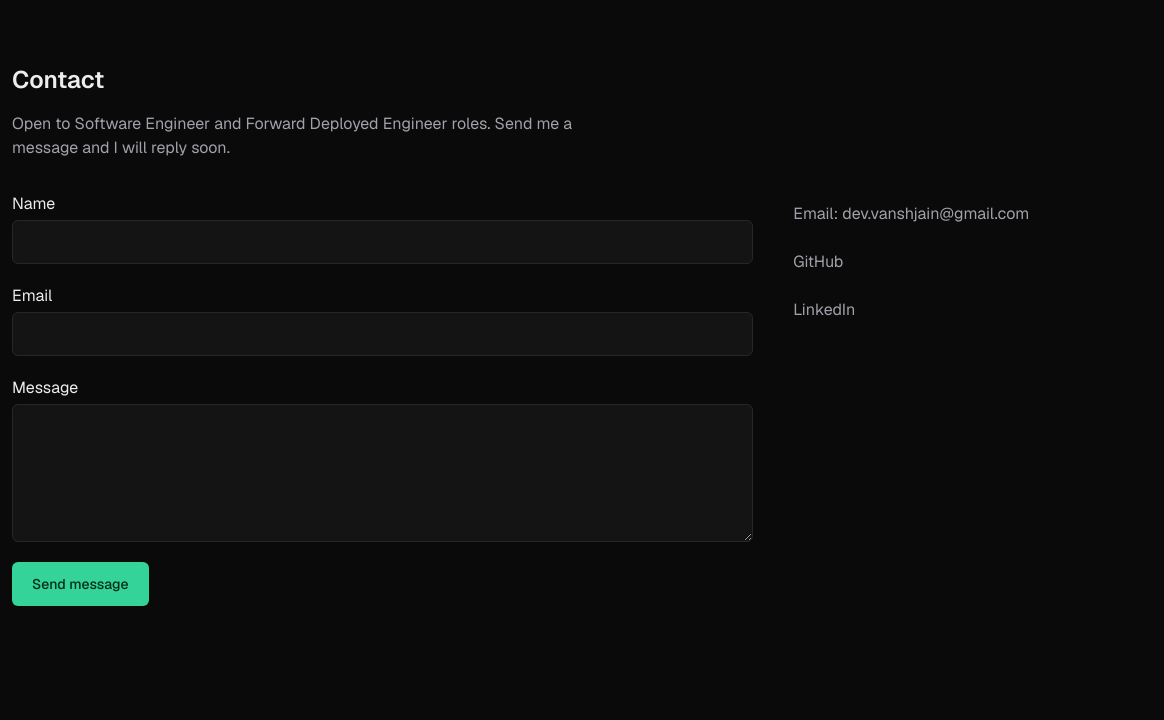
invalid email is blocked
Type "Ada" into the field labelled "Name" at (383, 242), box [12,220,753,264]
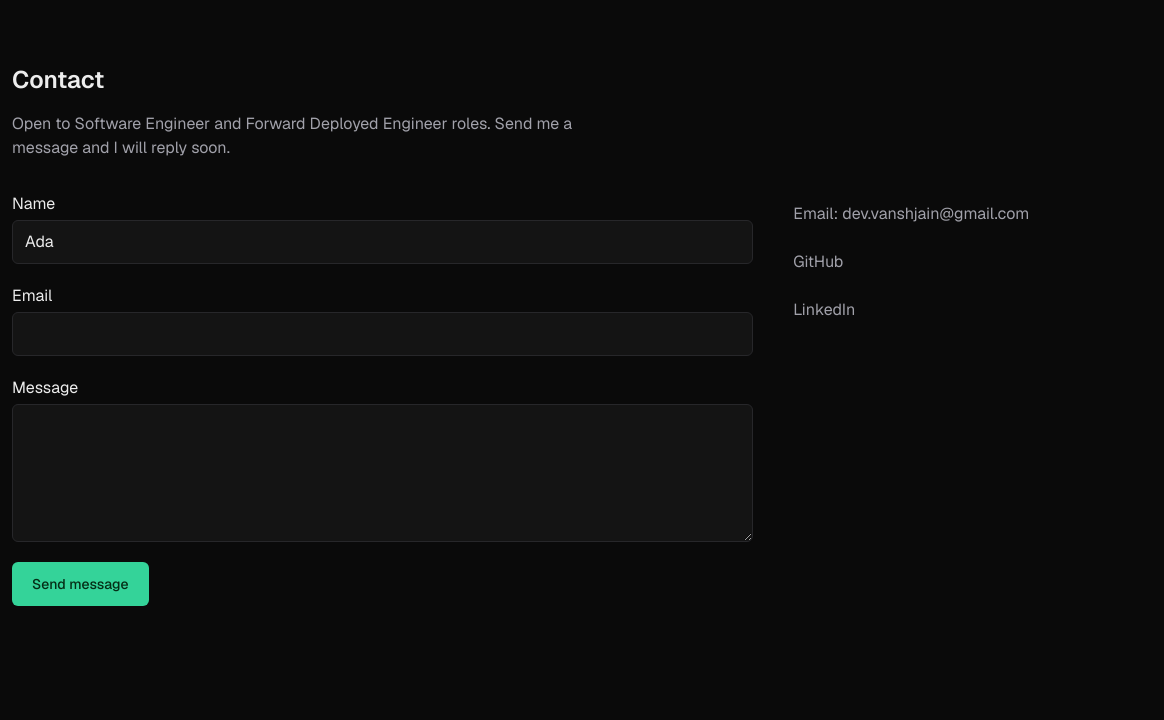
Type "not-an-email" into the field labelled "Email" at (383, 334), box [12,312,753,356]
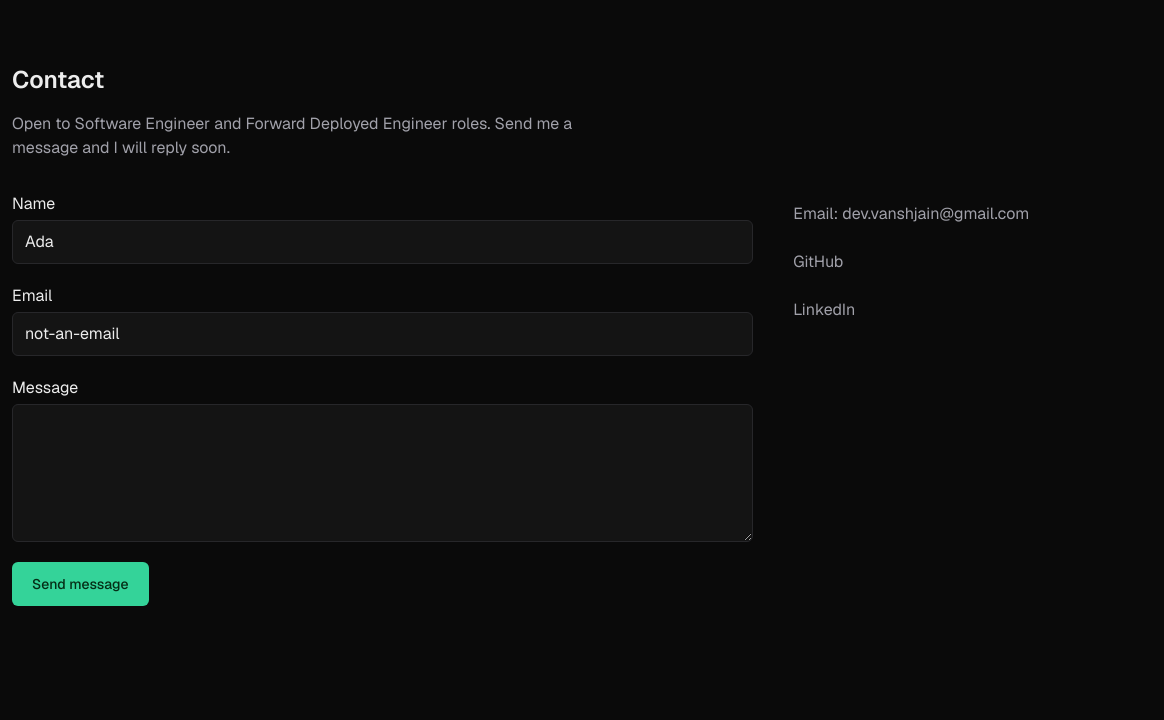
Type "Hello" into the text box labelled "Message" at (383, 473), box [12,404,753,542]
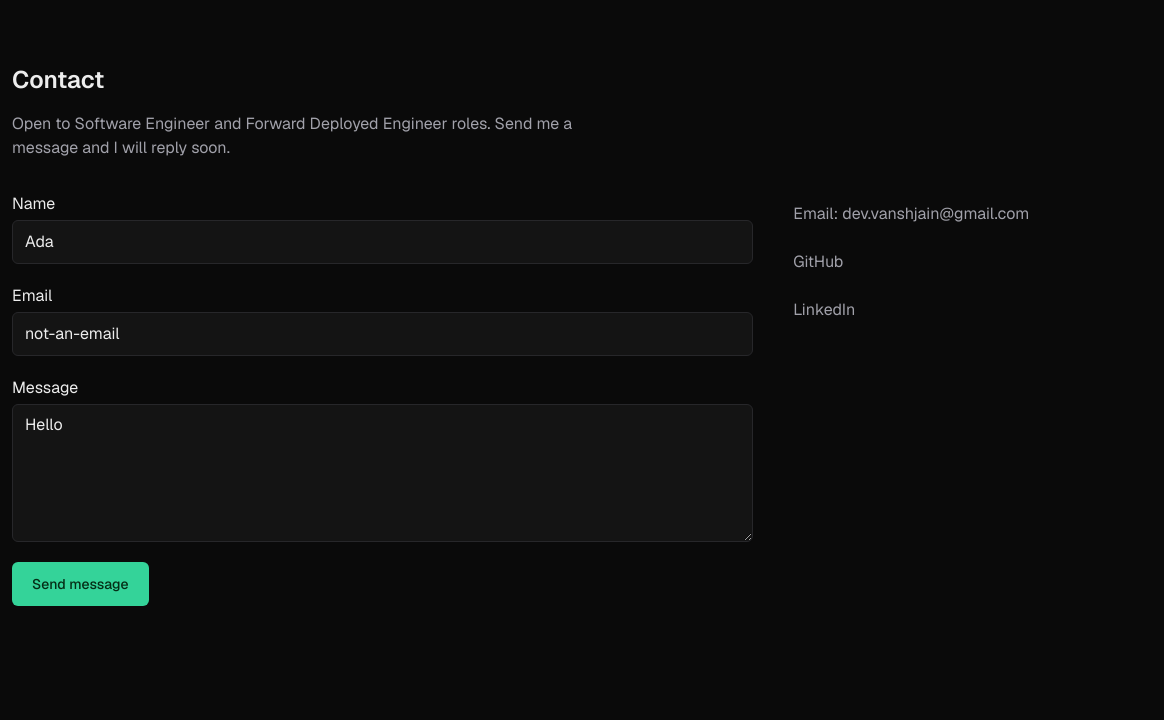
Click the button "Send message" at (80, 584), box [12,562,148,606]
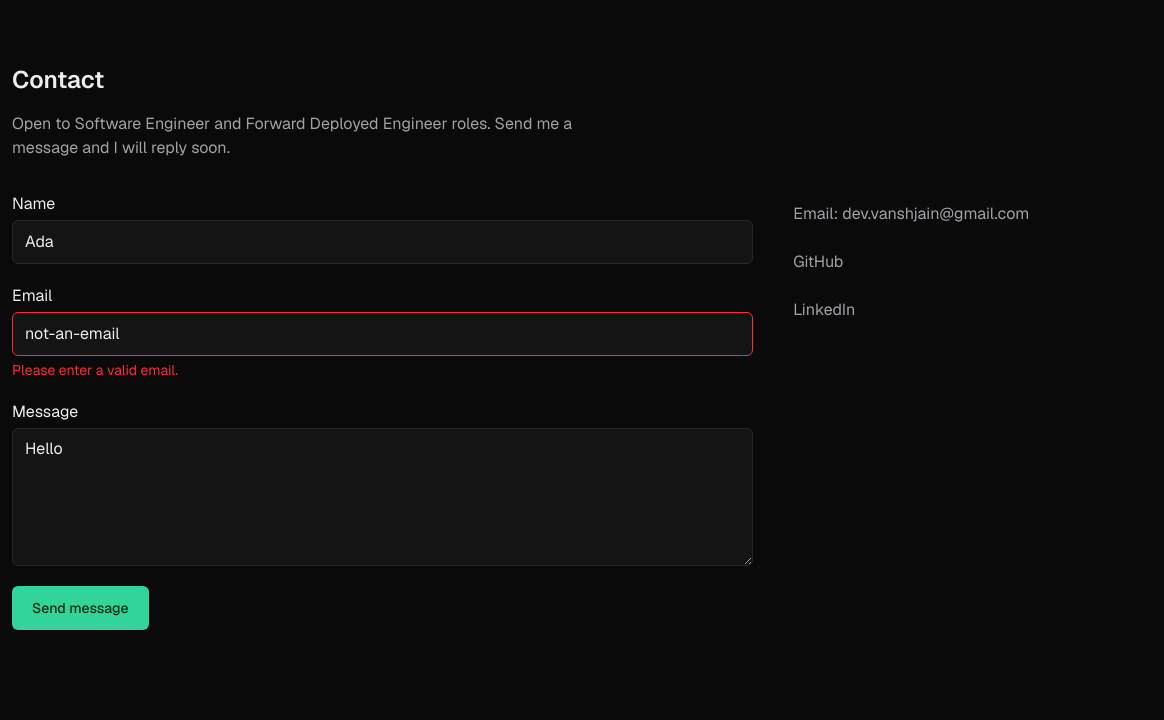
Now the text "Please enter a valid email." is shown, box [12,361,178,379]
